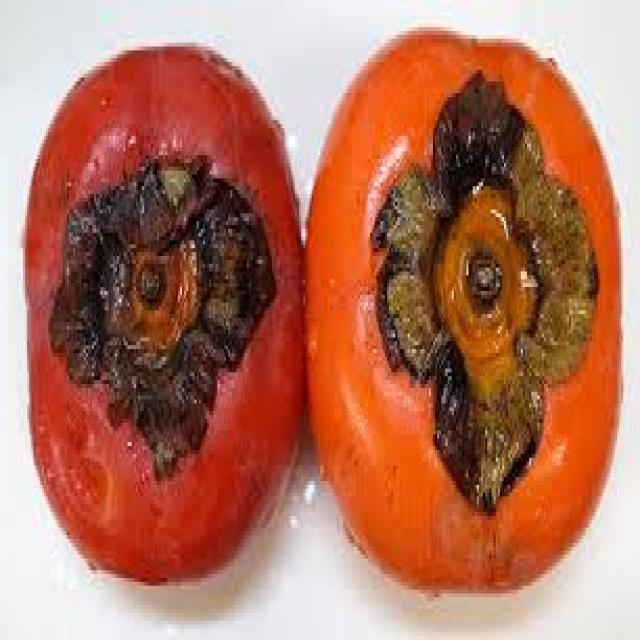organic waste: (301, 23, 619, 590), (19, 35, 299, 582)
